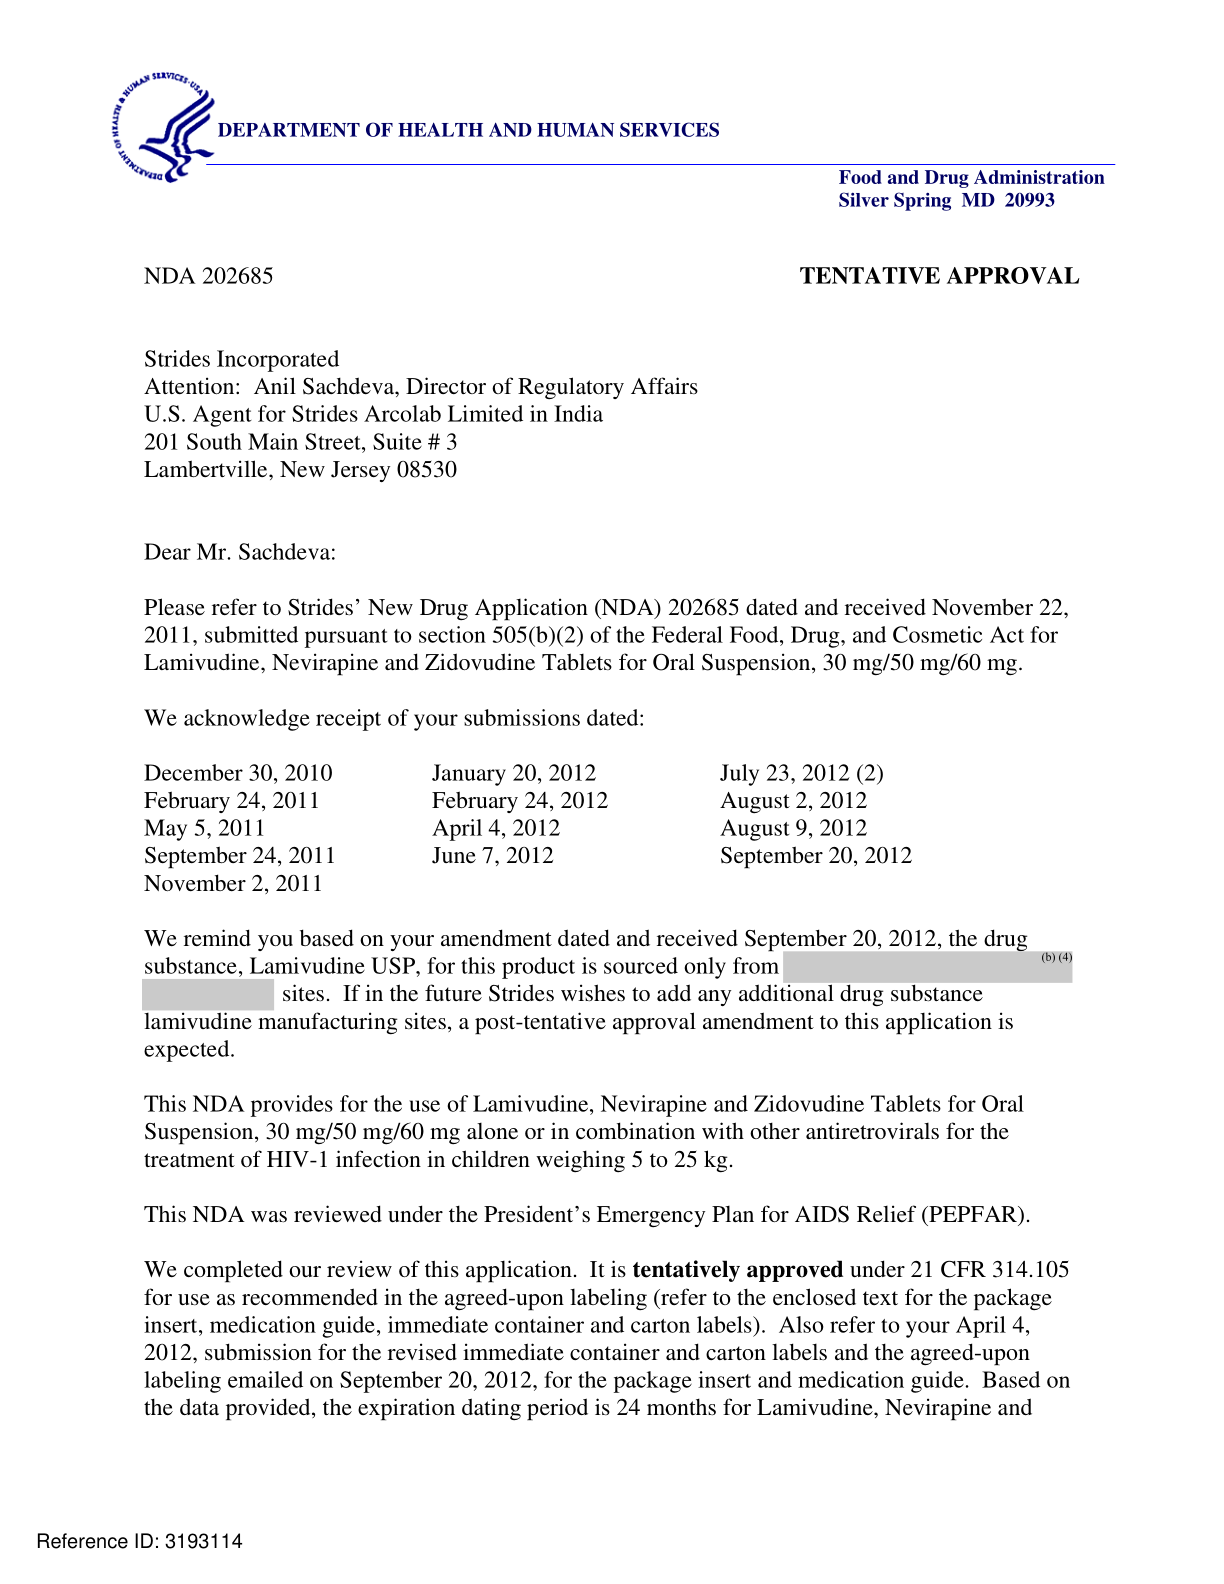nolines: (141, 759, 915, 895)
